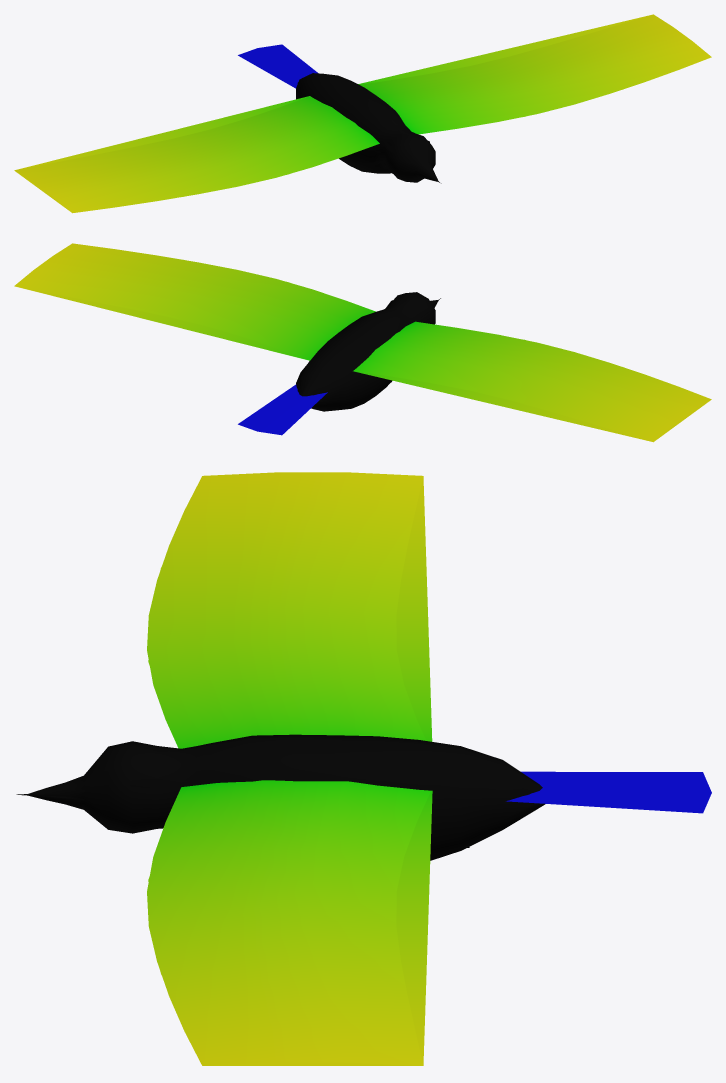
The model's file is jackdaw.glb.
The picture shows the model from 3 angles, top to bottom: view 1: azimuth 30°, elevation 25°; view 2: azimuth 150°, elevation 25°; view 3: azimuth 270°, elevation 25°; orthographic projection. The views are drawn at different scales.
Visible parts, largest first — view 1: fly0, fly2, fly1; view 2: fly0, fly2, fly1; view 3: fly0, fly2, fly1.
Part boxes in pixels (x1,y1,x2,y2): fly0: (14, 14, 711, 213); fly2: (16, 15, 650, 206); fly1: (16, 35, 584, 210); fly0: (14, 243, 711, 441); fly2: (16, 286, 700, 441); fly1: (51, 259, 708, 438); fly0: (27, 472, 711, 1065); fly2: (16, 476, 432, 1065); fly1: (24, 486, 711, 1065).
Size of the model in its own units: 0.68 by 0.0686 by 0.3399.
